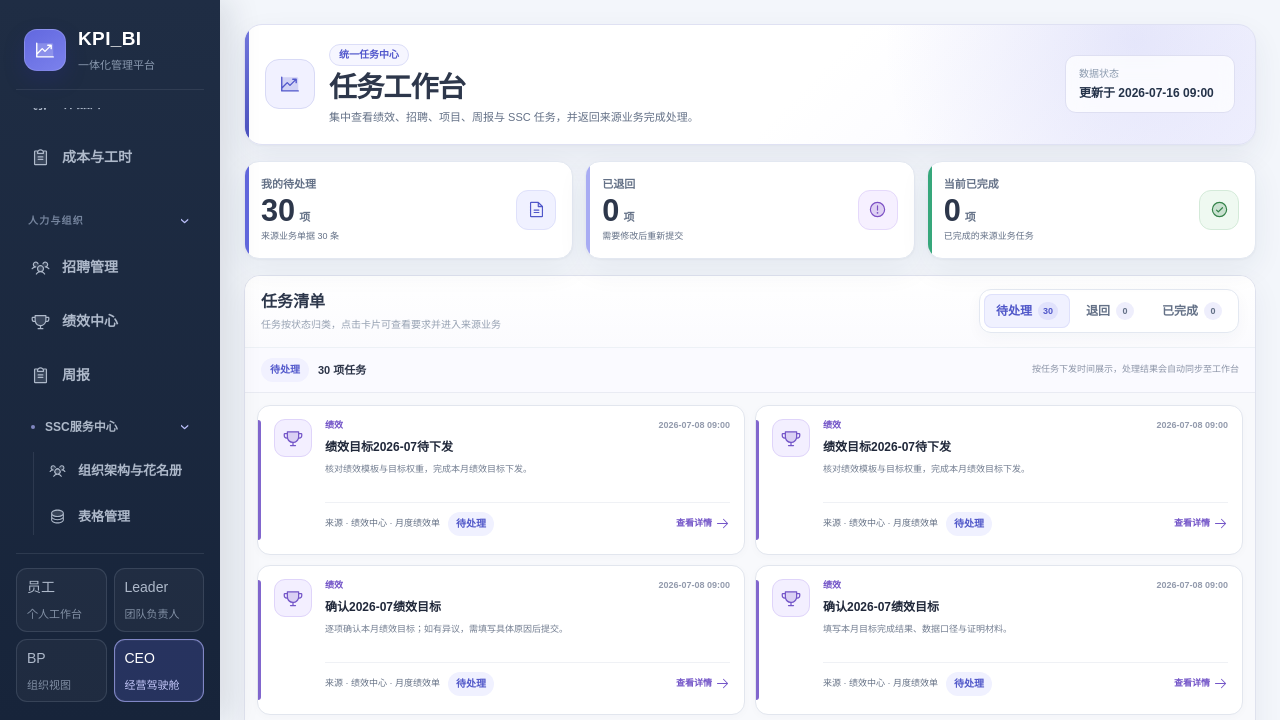
绩效中心交互与权限 › 用户可见绩效页面不再出现OKR旧术语并使用绩效委员会按钮
The image size is (1280, 720).
(page scrolled)
What coordinates should you click on to do the following:
click the button "绩效中心"
I would click on:
 (110, 322)
Its box is [16,296,204,346].
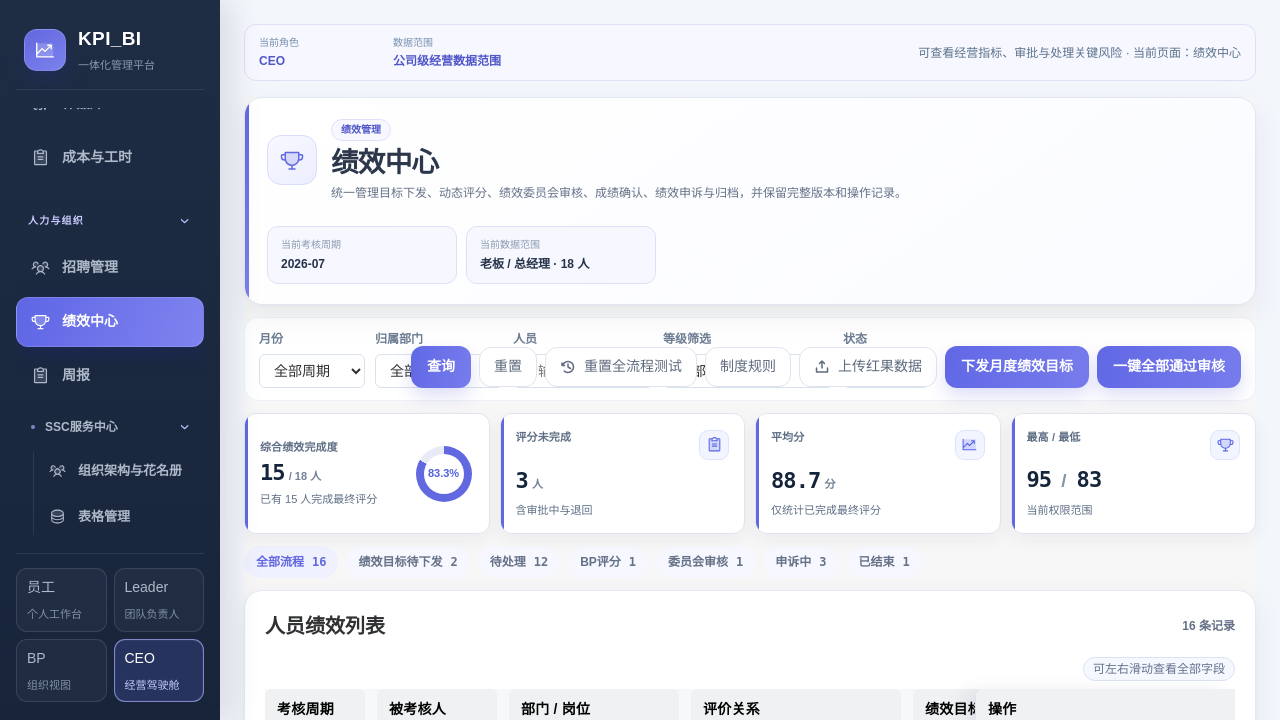
Result: the text "综合绩效完成度" is shown at [260,441,338,453]
Result: the text "评分未完成" is shown at [516,430,571,444]
Result: the text "平均分" is shown at [771,430,804,444]
